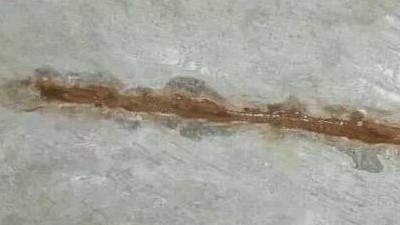Exposed reinforcement: (38, 82, 400, 145)
Spalling: (1, 62, 400, 174)
